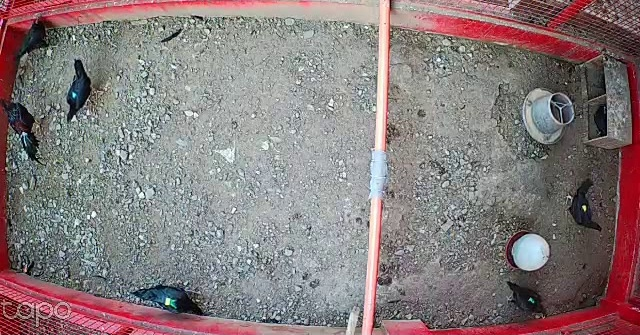Chicken: (132, 279, 210, 319), (65, 57, 109, 123), (561, 177, 606, 235), (15, 15, 59, 63), (500, 278, 548, 320)
Rooster: (0, 96, 43, 160)
Saddle_Color_Blue: (71, 91, 78, 98)
Saddle_Color_Green: (529, 296, 536, 304)
Saddle_Color_Yellow: (582, 205, 587, 212)
Saddle_Color_YellowGreen: (162, 296, 179, 310)
